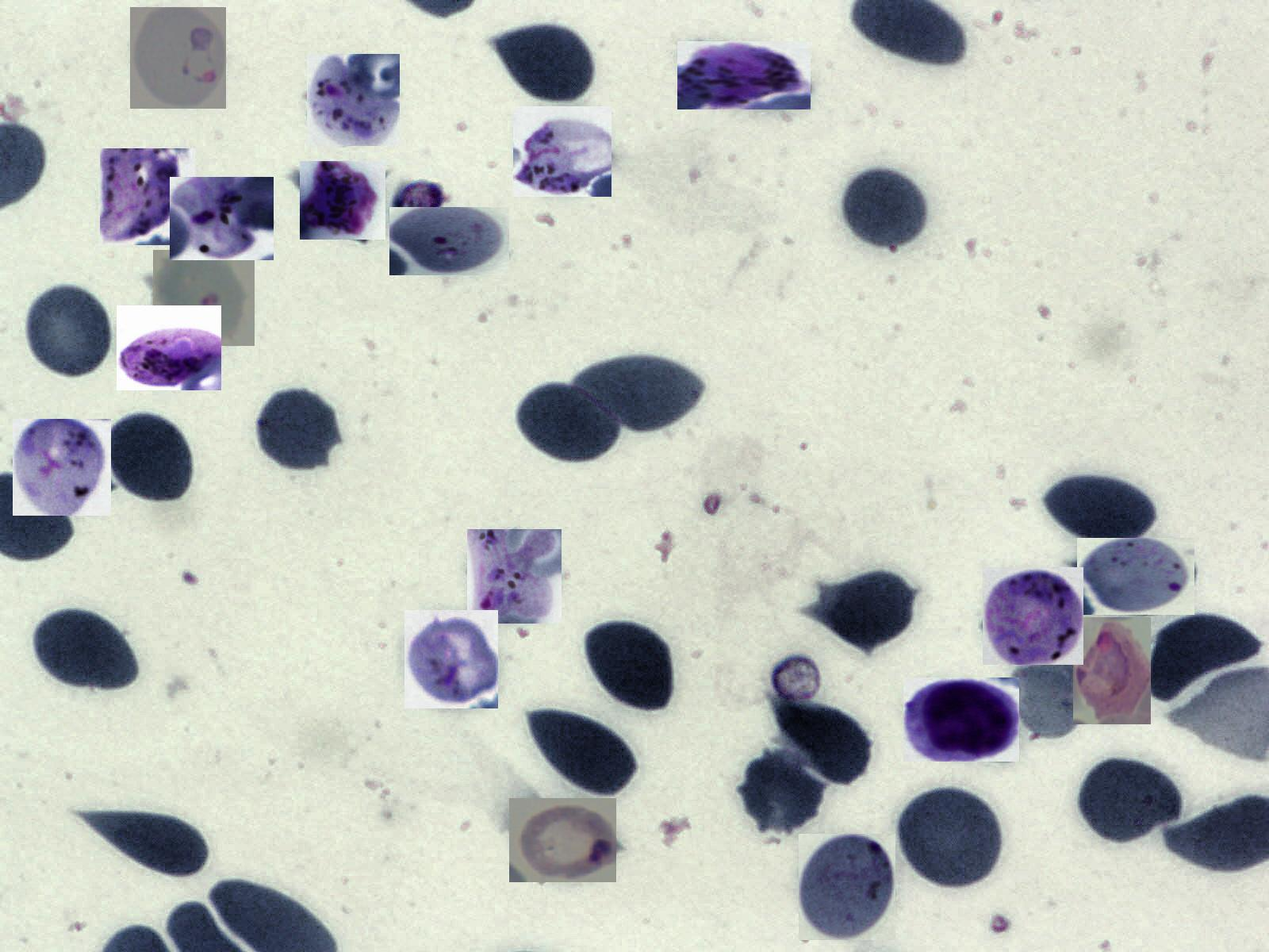Infected: (799, 834, 895, 940), (983, 567, 1083, 665), (130, 7, 226, 109), (153, 250, 255, 346), (903, 678, 1019, 762), (13, 419, 111, 516), (100, 148, 195, 245), (404, 610, 498, 708), (677, 41, 811, 109), (467, 529, 562, 624), (1077, 538, 1194, 615), (509, 798, 616, 882), (513, 106, 611, 197), (117, 305, 221, 390), (170, 177, 274, 260), (307, 54, 400, 146), (1073, 617, 1151, 724), (389, 207, 509, 275), (300, 161, 385, 240)
Uninfected: (896, 783, 1003, 892), (572, 350, 707, 434), (527, 704, 638, 797), (1151, 612, 1257, 705), (1079, 755, 1183, 847), (514, 378, 622, 466), (31, 604, 138, 692), (23, 282, 115, 381), (77, 811, 208, 880), (492, 20, 596, 105), (102, 410, 195, 505), (815, 566, 917, 651), (1043, 473, 1160, 547), (585, 618, 677, 712), (778, 699, 876, 787), (838, 162, 930, 251), (738, 747, 827, 837), (252, 385, 342, 472), (1008, 648, 1084, 751)
